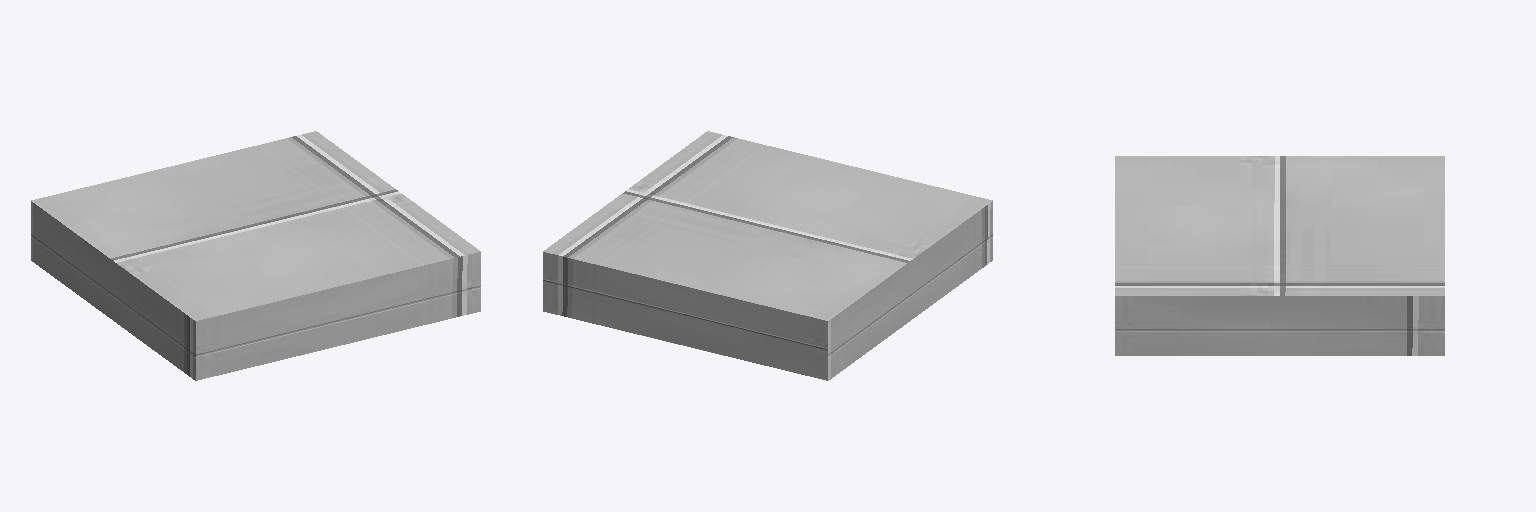
The picture shows the model from 3 angles: view 1: azimuth 30°, elevation 25°; view 2: azimuth 150°, elevation 25°; view 3: azimuth 270°, elevation 25°; orthographic projection.
Parts seen in each view (by area): view 1: Floor; view 2: Floor; view 3: Floor.
Part boxes in pixels (x1,y1,x2,y2): Floor: (31,131,480,380); Floor: (543,131,992,380); Floor: (1115,156,1444,355).
Bounding box in the file's own units: 1 × 0.2 × 1.
Materials: 1 (1 with a texture image).